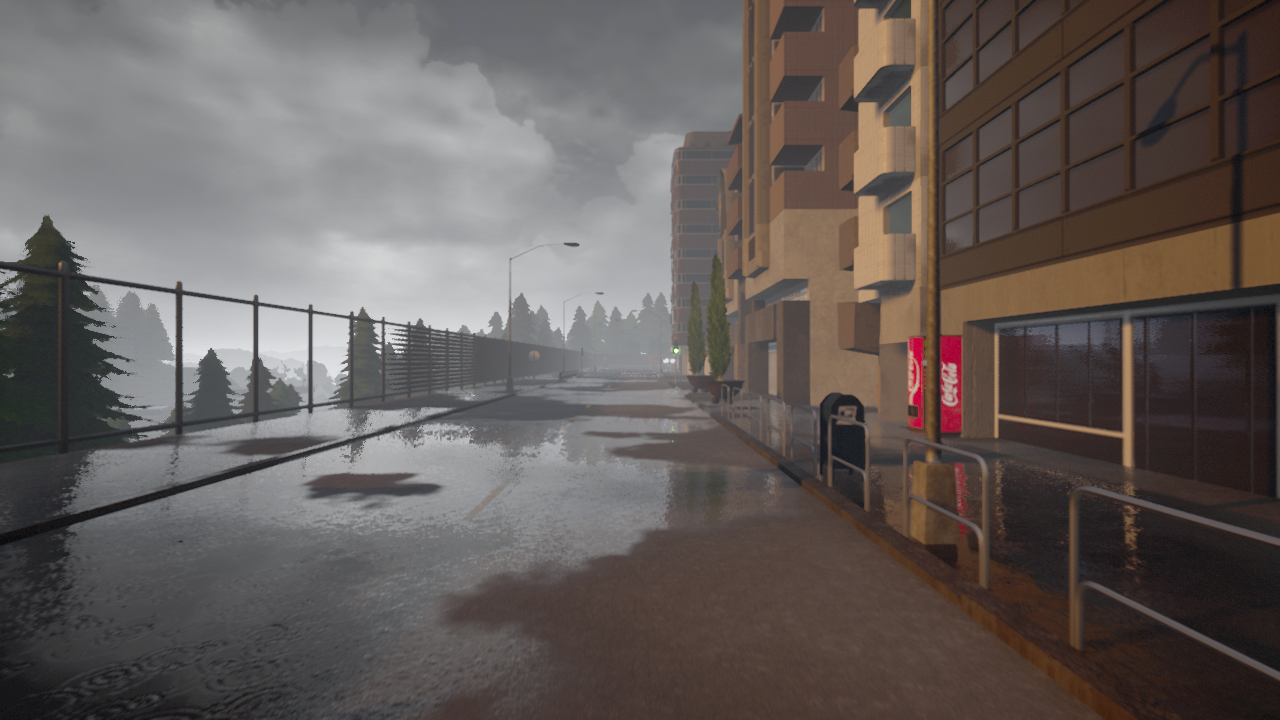green: (673, 339, 679, 354)
